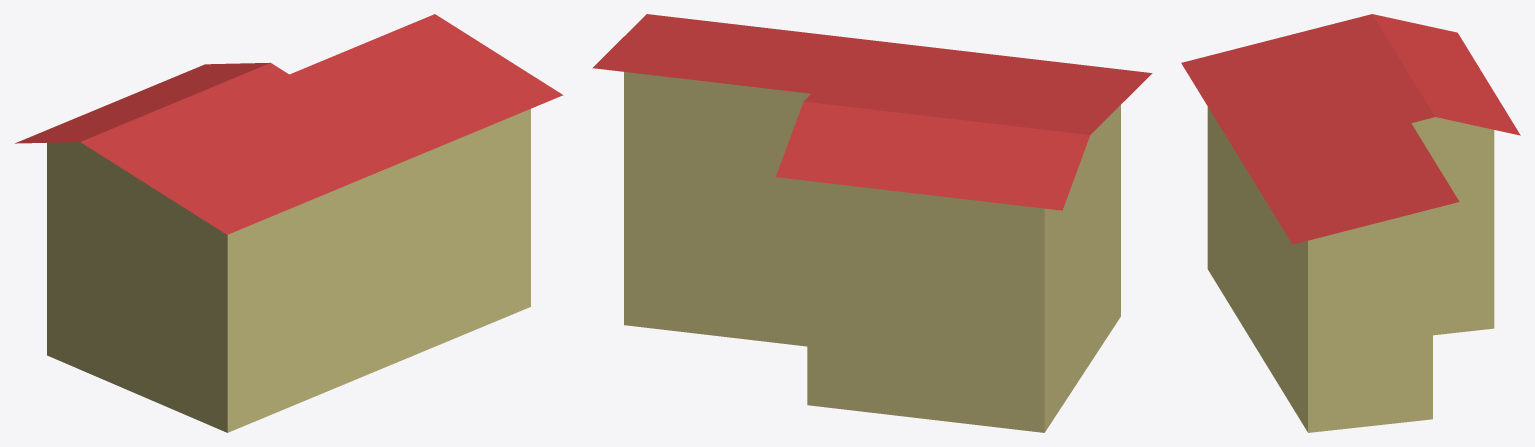
The picture shows the model from 3 angles, left to right: view 1: azimuth 30°, elevation 25°; view 2: azimuth 150°, elevation 25°; view 3: azimuth 270°, elevation 25°; orthographic projection. The views are drawn at different scales.
Bounding box in the file's own units: 11.55 × 7.82 × 5.78.
